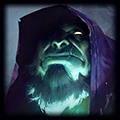Yorick: (4, 5, 116, 114)
